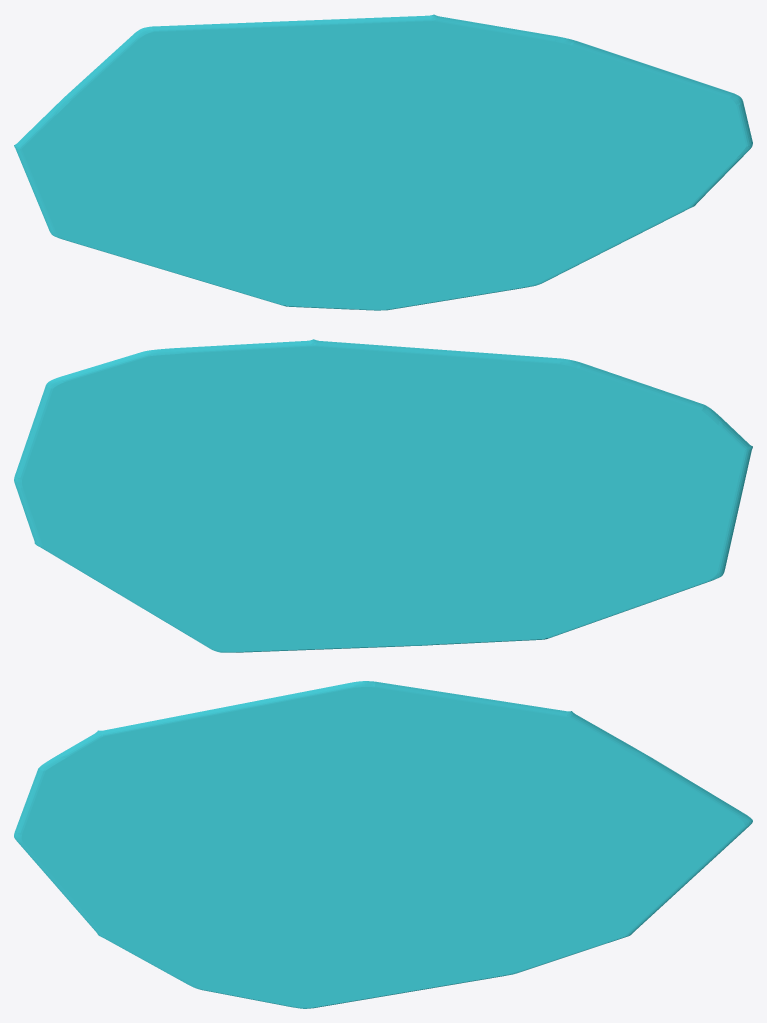
File: water.fbx
3 renders of one model, top to bottom at view 1: azimuth 30°, elevation 25°; view 2: azimuth 150°, elevation 25°; view 3: azimuth 270°, elevation 25°, orthographic. The views are drawn at different scales.
Parts seen in each view (by area): view 1: Cube; view 2: Cube; view 3: Cube.
Boxes of the visible parts, left/top/right/bottom form: Cube: left=14, top=14, right=752, bottom=310; Cube: left=14, top=339, right=752, bottom=652; Cube: left=14, top=681, right=752, bottom=1008.
Bounding box in the file's own units: 2170 × 10.9 × 2068.
